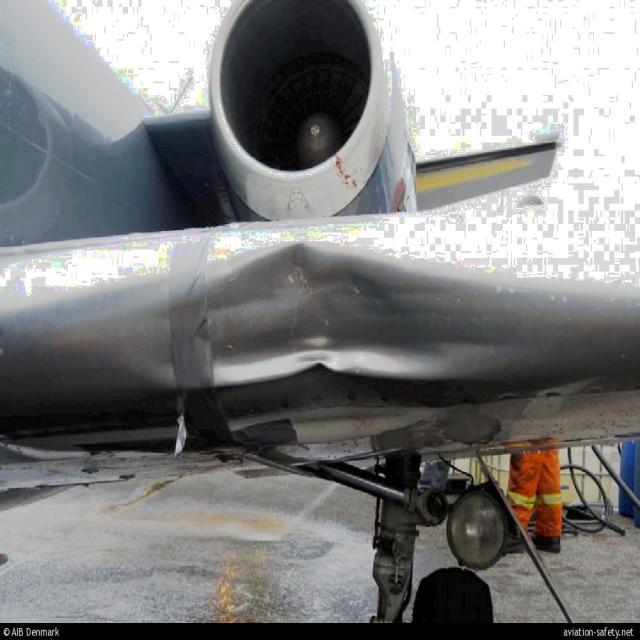dent: (159, 243, 532, 383)
